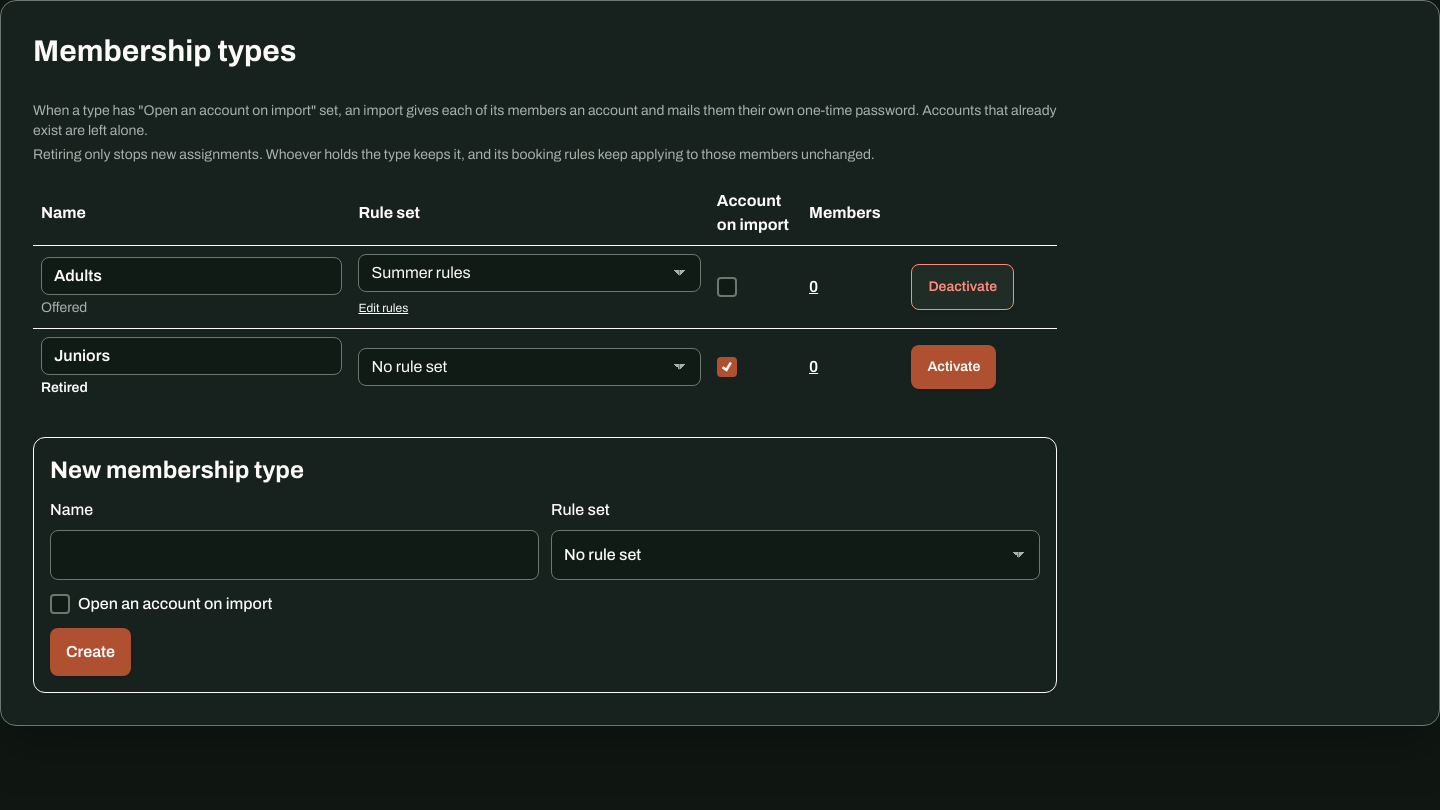
AdminMembershipTypesView › given a refused creation, when the answer arrives, then the form still holds what was typed
The image size is (1440, 810).
Expected: the row with test id "membership-type-type-1" is shown, [33, 246, 1057, 328]
Type "Seniors" into the field with test id "new-membership-type-name" at (294,554), box [50, 530, 539, 580]
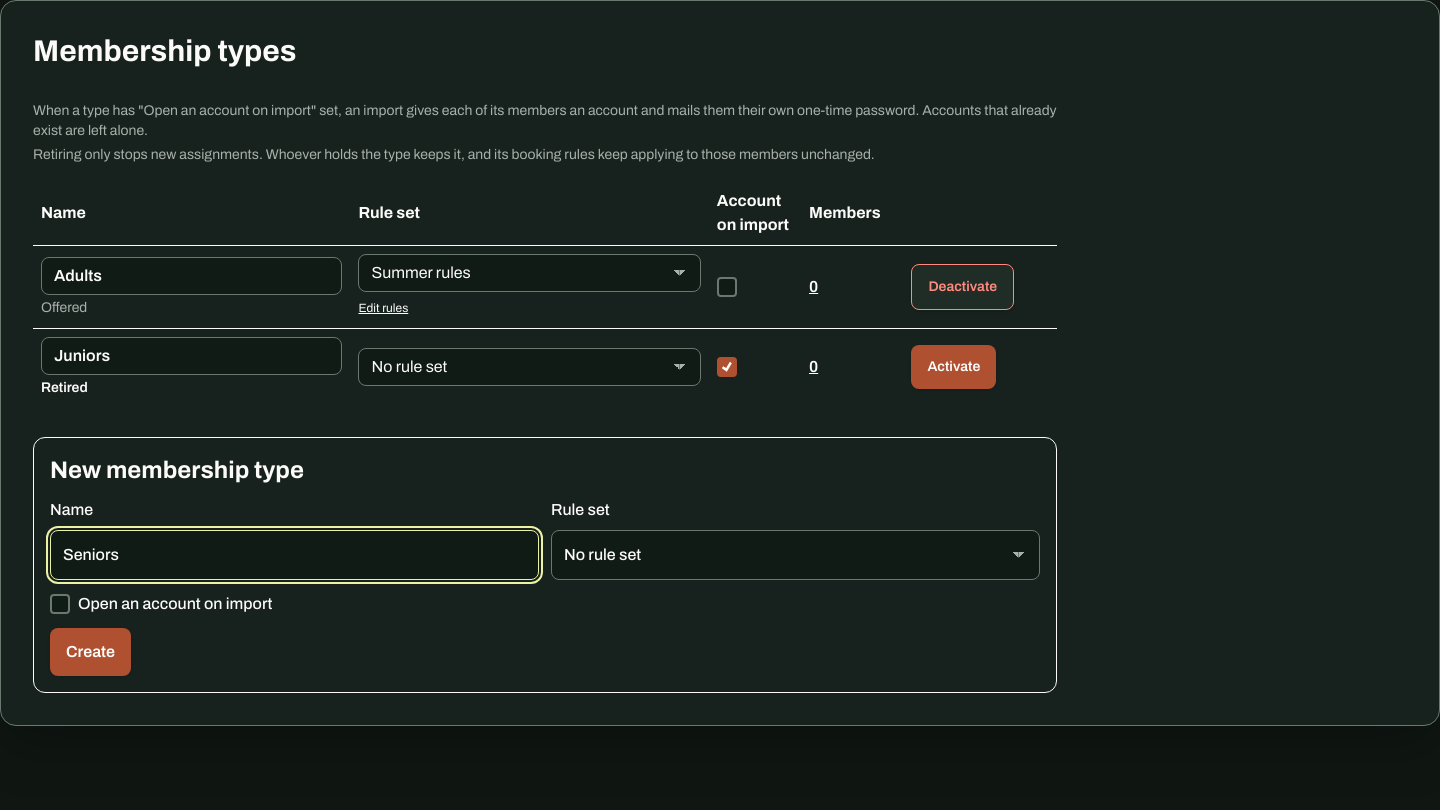
Click the checkbox with test id "new-membership-type-grants-account" at (60,604), box [50, 594, 70, 614]
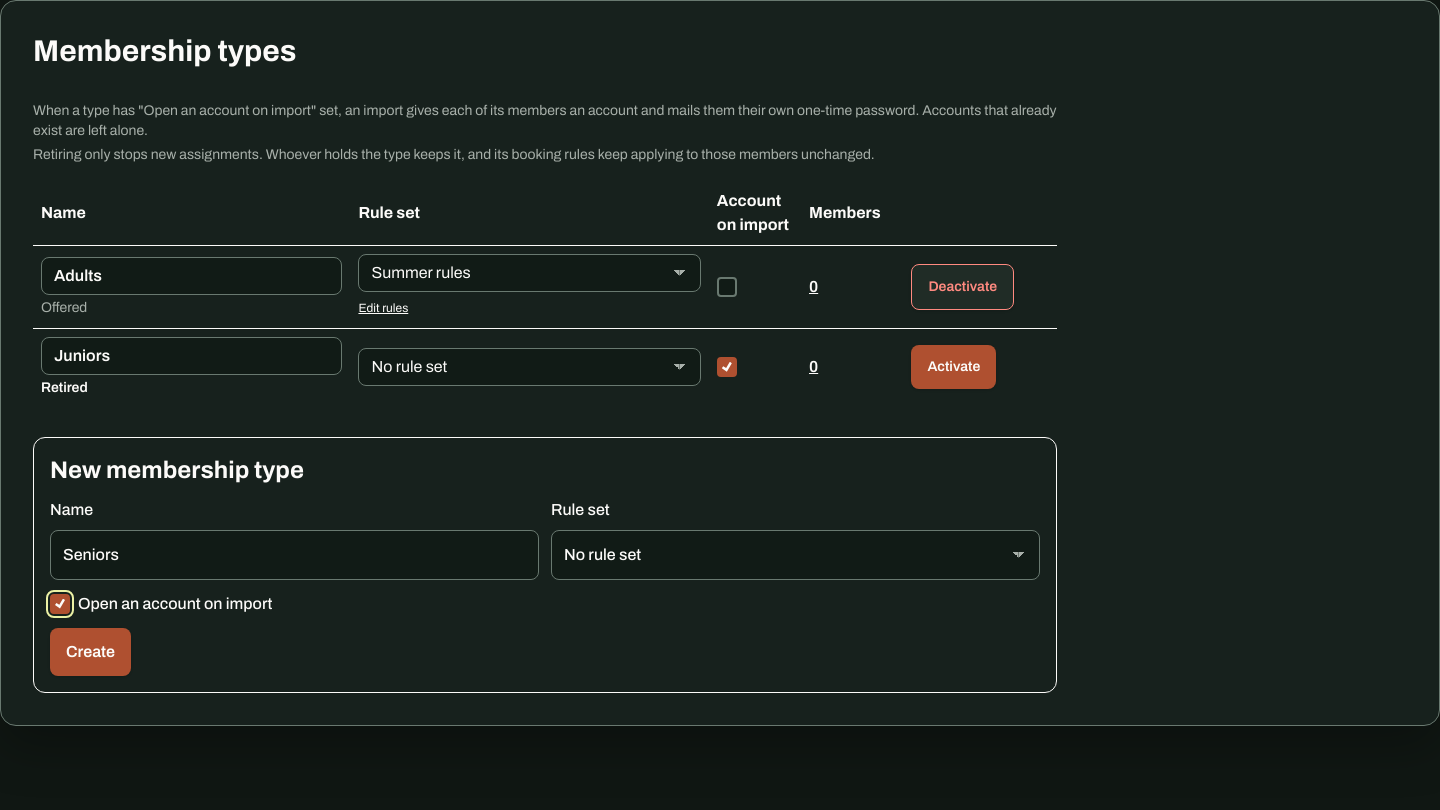
Click the button with test id "create-membership-type" at (90,652), box [50, 628, 131, 676]
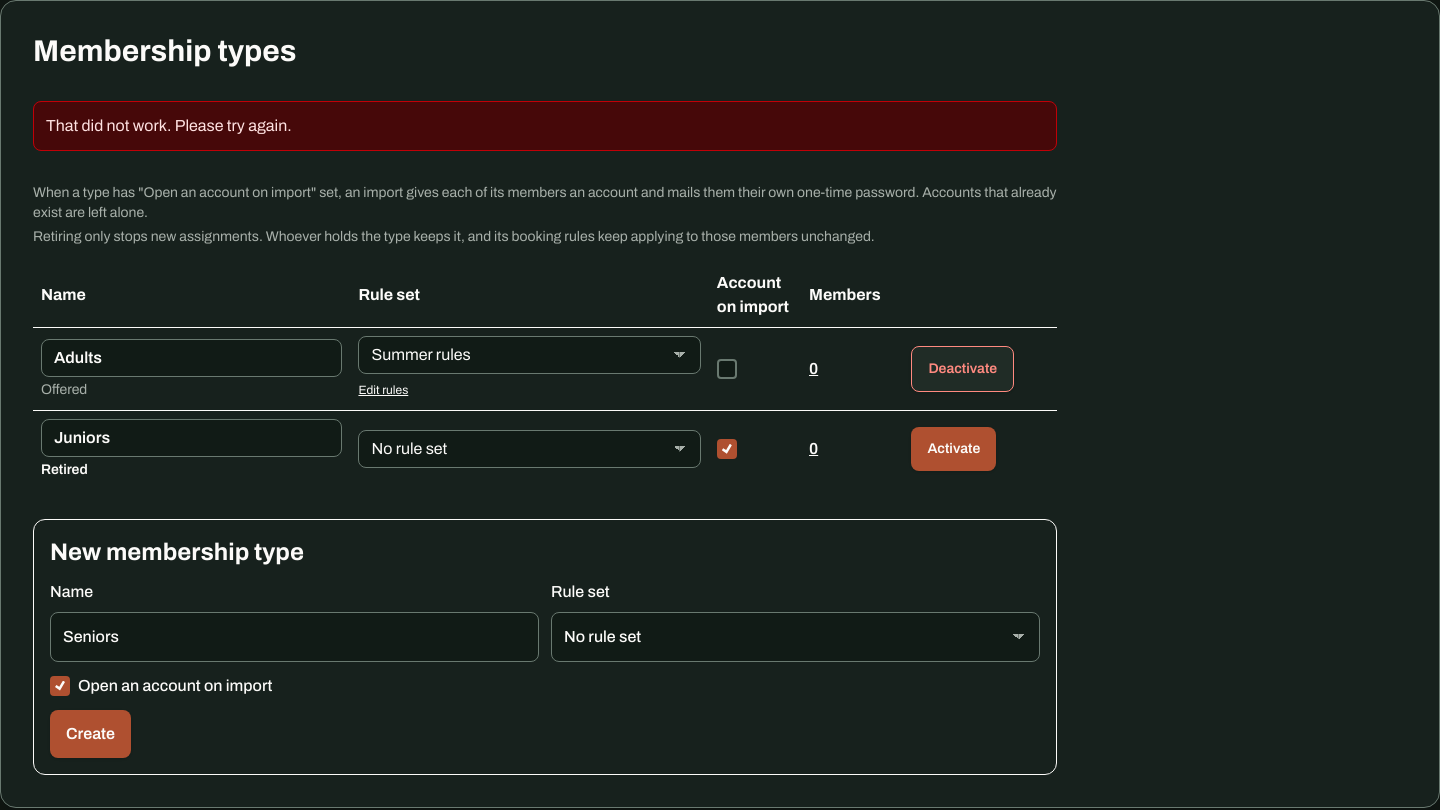
Now the checkbox with test id "new-membership-type-grants-account" is checked, box [50, 676, 70, 696]
Now the message reads "That did not work. Please try again.", box [46, 117, 292, 134]
